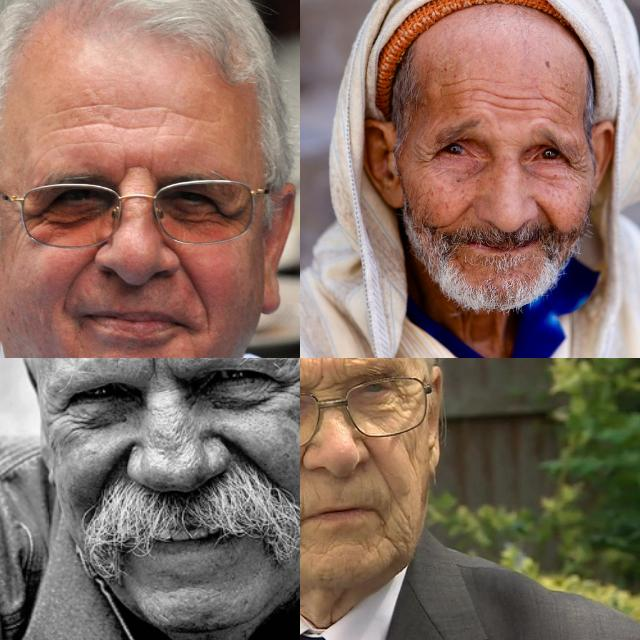crows_feet: (18, 200, 52, 240), (212, 198, 252, 228), (272, 366, 300, 395), (46, 399, 74, 427), (412, 144, 438, 168), (568, 156, 592, 180), (392, 384, 412, 410)
forehead: (49, 97, 97, 133), (104, 116, 158, 148), (112, 94, 160, 120), (174, 106, 222, 132), (490, 92, 538, 115), (543, 92, 581, 118), (441, 75, 484, 97), (313, 358, 329, 369), (350, 358, 385, 362)
frown_line: (112, 156, 160, 187), (314, 374, 346, 394), (142, 358, 163, 383)
gummy_smile: (175, 261, 212, 313), (62, 256, 98, 306), (223, 433, 270, 463), (96, 445, 125, 491), (366, 443, 390, 483), (448, 200, 478, 223), (536, 200, 556, 226), (300, 458, 306, 503)
masseter: (400, 440, 426, 474)
sad_smile: (373, 510, 399, 544), (300, 523, 304, 557)
